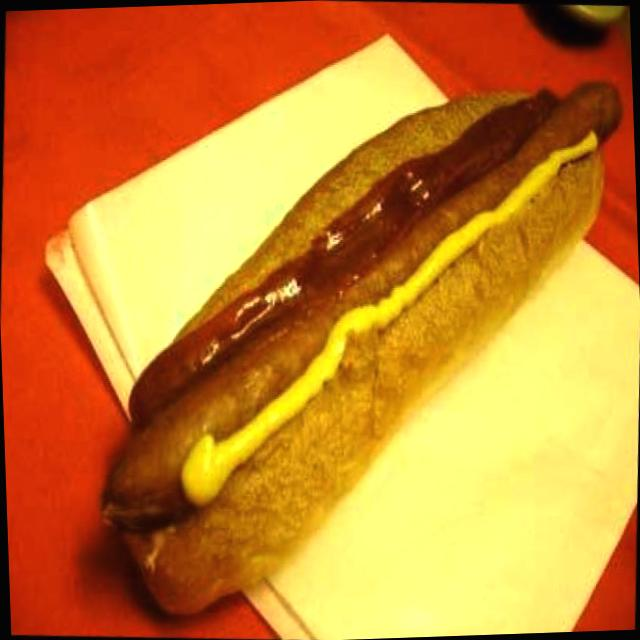Hot Dog: (60, 40, 640, 640)
